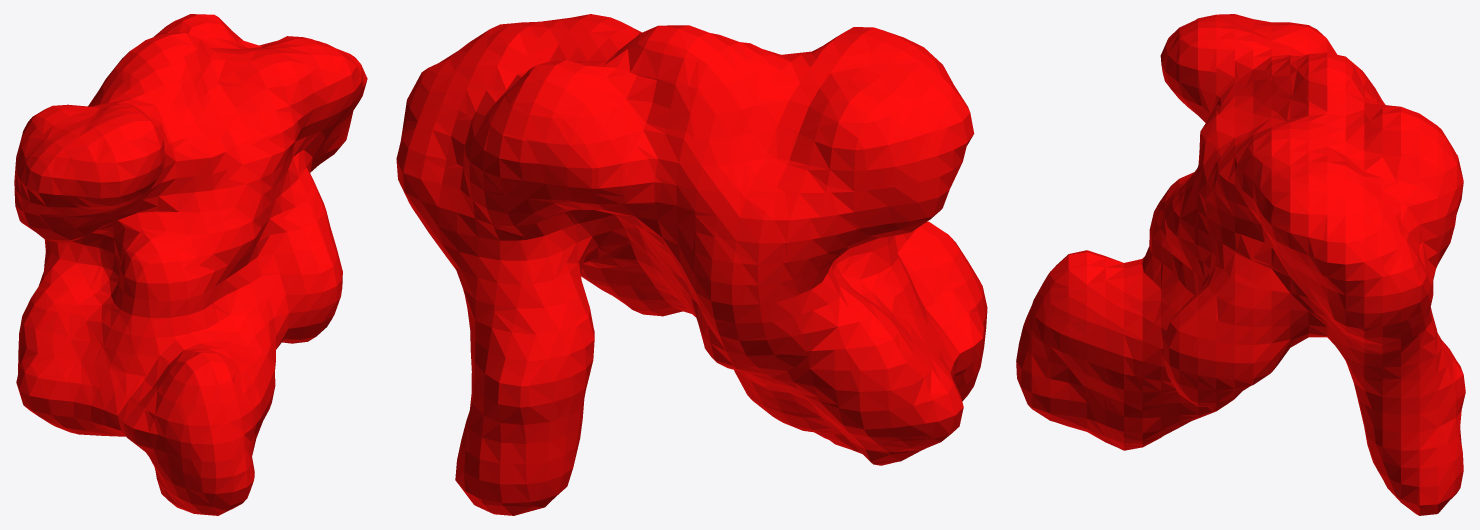
Rendered from cysU_coarse.dae.
3 renders of one model, left to right at view 1: azimuth 30°, elevation 25°; view 2: azimuth 150°, elevation 25°; view 3: azimuth 270°, elevation 25°, orthographic. The views are drawn at different scales.
Parts seen in each view (by area): view 1: cysU; view 2: cysU; view 3: cysU.
Boxes of the visible parts, x1,y1,x2,y2 form: cysU: (14, 14, 367, 515); cysU: (396, 14, 987, 515); cysU: (1016, 14, 1465, 515).
Bounding box in the file's own units: 61.55 × 58.82 × 56.87.
